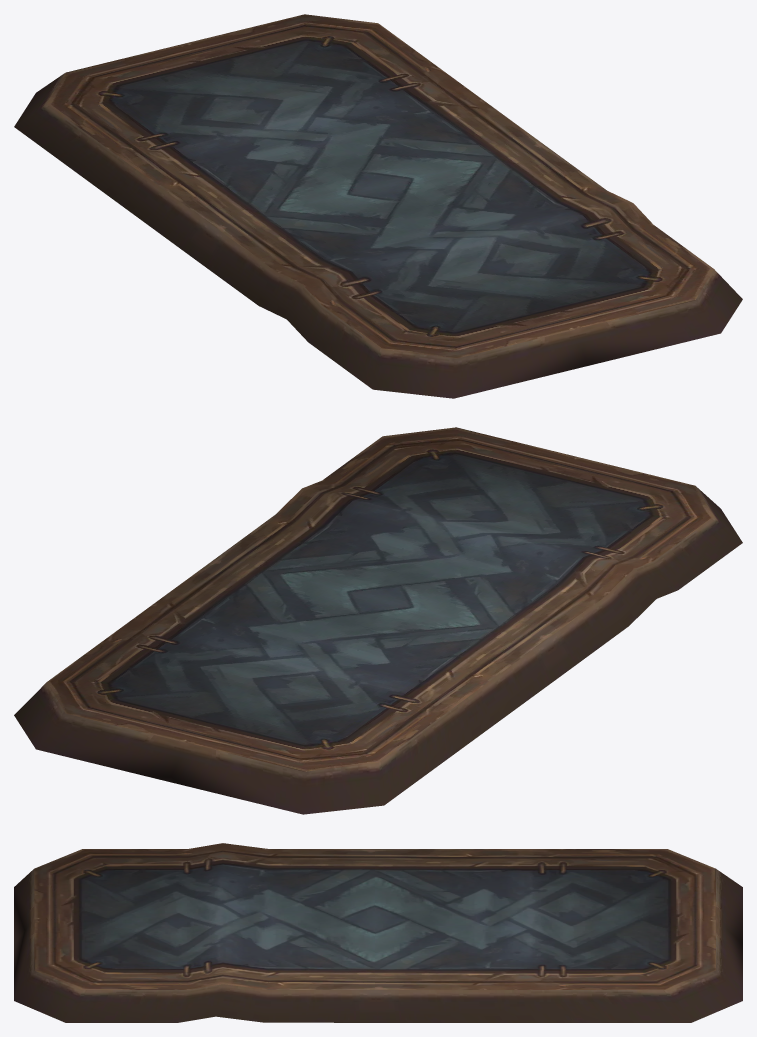
3 views of the same model, one above another, from view 1: azimuth 30°, elevation 25°; view 2: azimuth 150°, elevation 25°; view 3: azimuth 270°, elevation 25° (orthographic). The views are drawn at different scales.
Bounding box in the file's own units: 6.11 × 0.5508 × 11.95.
1 material, 1 textured.
